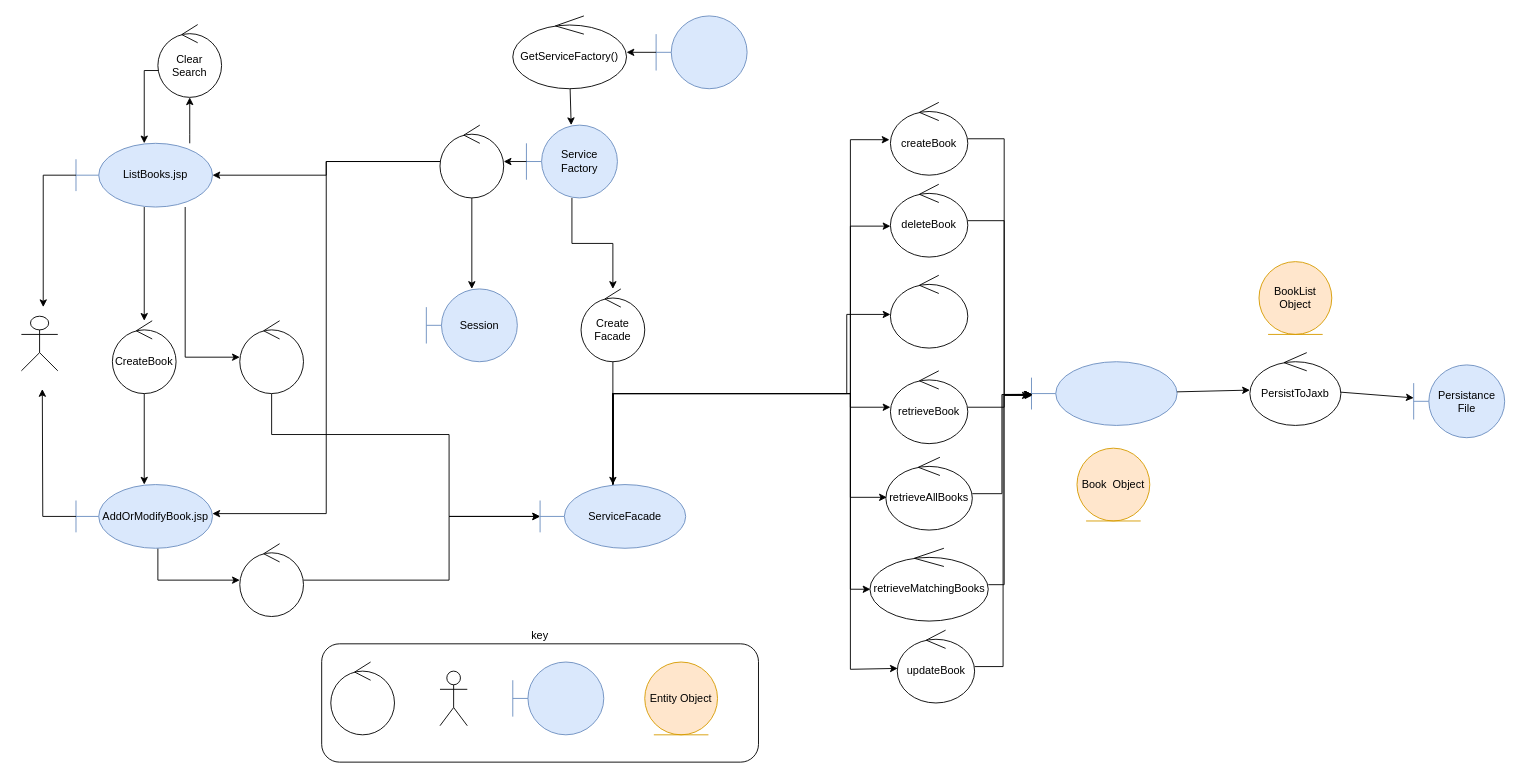
Image size: 1521x778. Some labels were removed from this diagram. Each missing label, with the box of its shape:
Actor: (439, 670, 467, 726)
Add Book: (239, 543, 303, 617)
BookDAO: (1031, 361, 1177, 425)
Boundary Object: (512, 661, 604, 735)
Control Object: (330, 661, 394, 735)
deleteAllBooks: (890, 274, 968, 348)
Get Facade: (439, 124, 504, 198)
Search: (239, 320, 303, 394)
Web Object Factory: (655, 15, 747, 89)
Web User: (20, 315, 58, 371)
